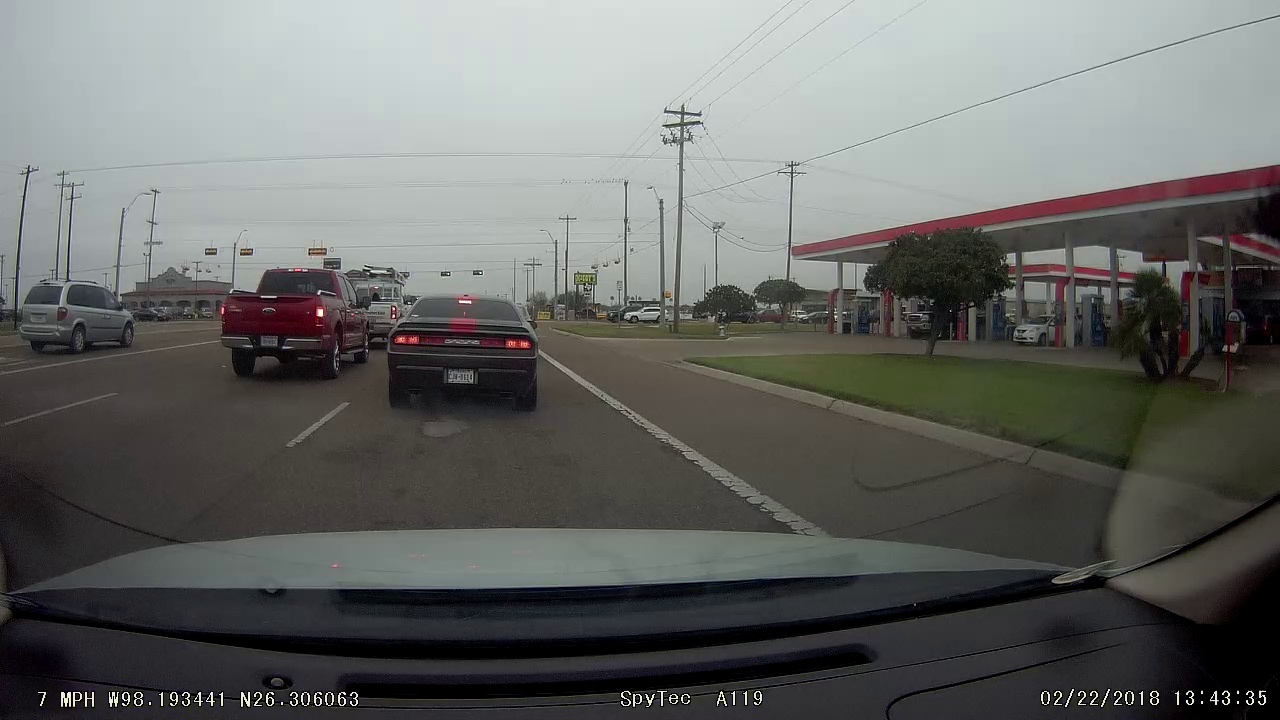crack: (618, 408, 772, 514)
